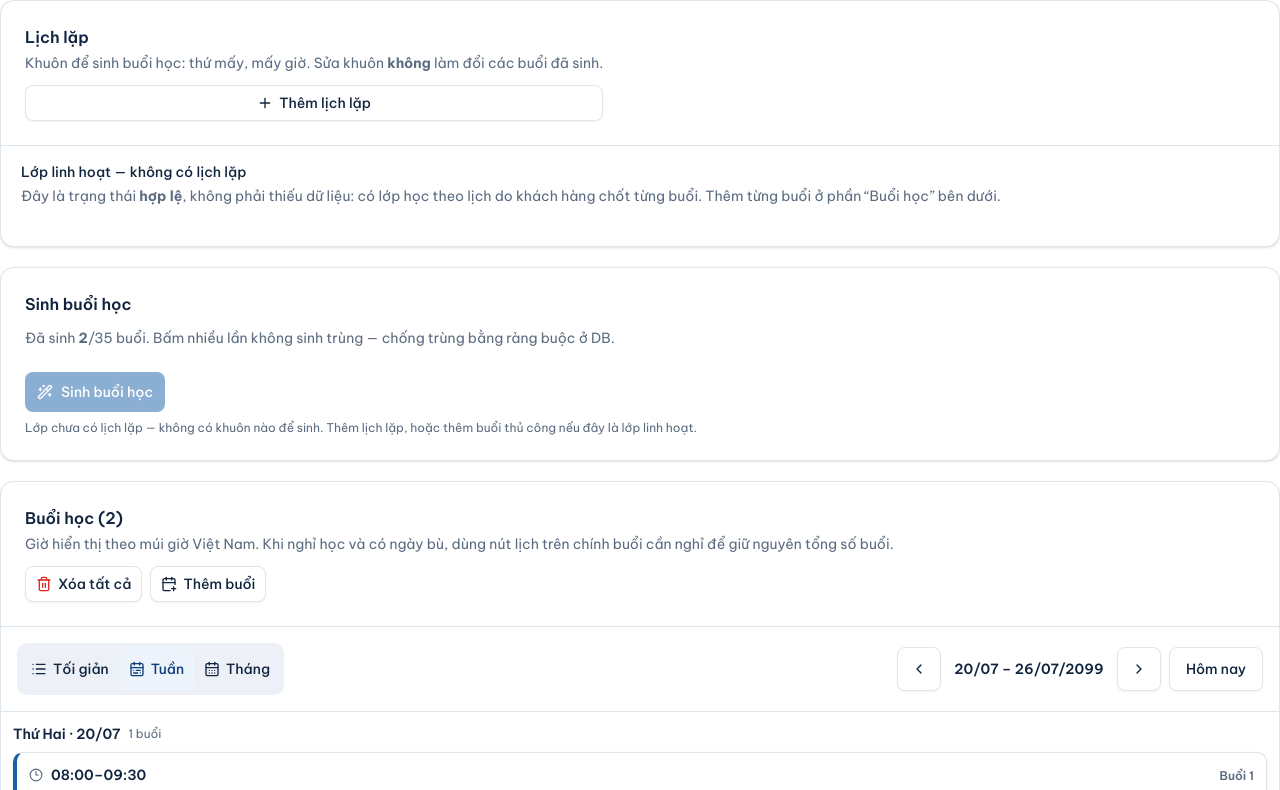
Scenario: ScheduleManager — chuyển kiểu thời khóa biểu › mặc định hiện tuần và chuyển được qua tối giản/tháng
Check: the text "20/07 – 26/07/2099" is shown, box [949, 659, 1109, 679]
Click the button "Tối giản": (70,669) [21, 647, 119, 691]
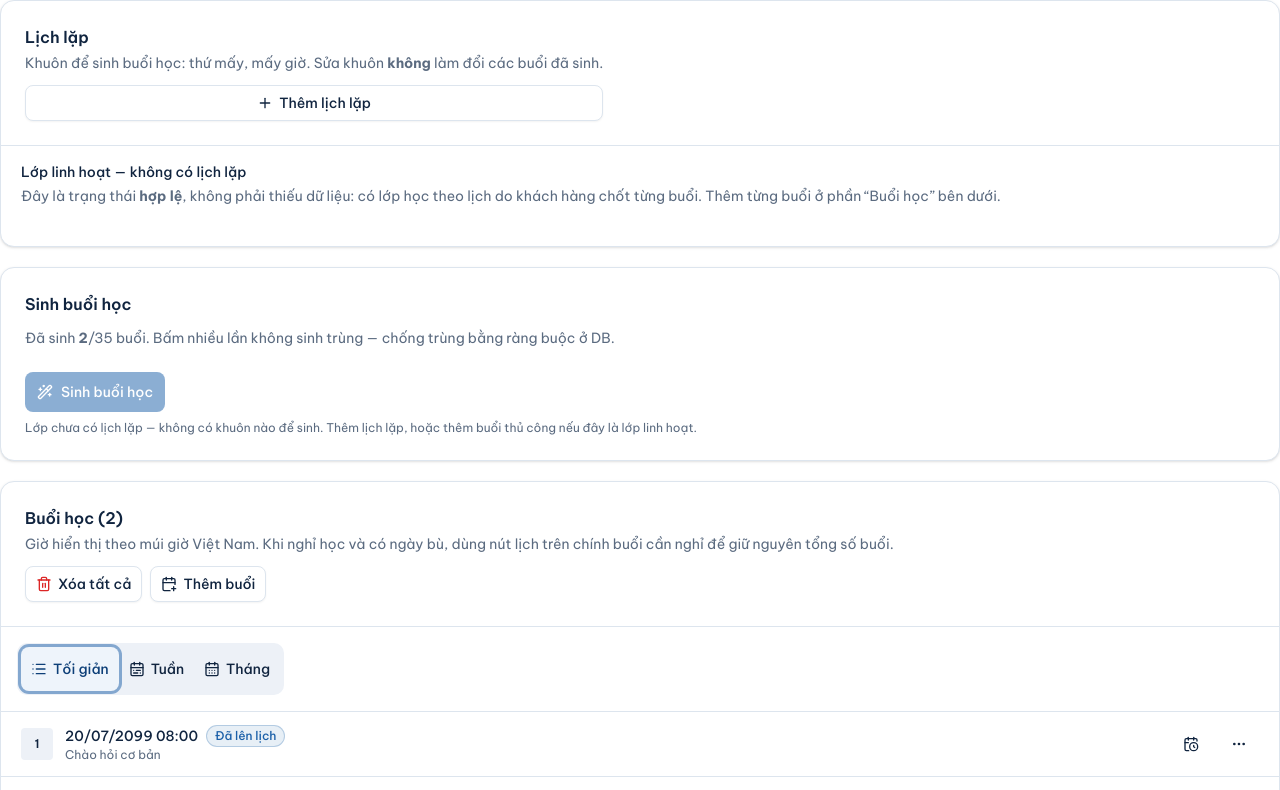
Check: the text "20/07/2099 08:00" is shown, box [65, 726, 198, 746]
Click the button "Tháng": (237,669) [194, 647, 280, 691]
(page scrolled)
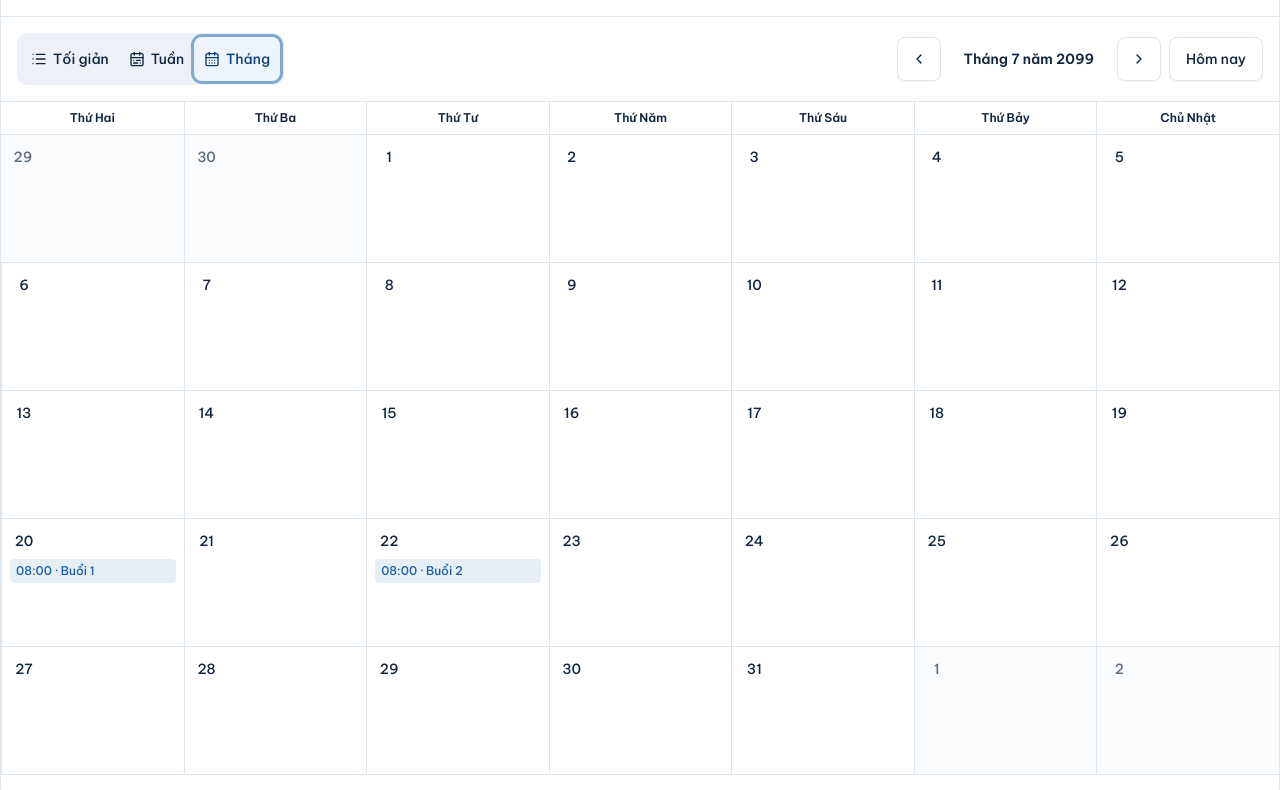
Check: the text "Tháng 7 năm 2099" is shown, box [964, 50, 1094, 68]
Check: the text titled "Buổi 1 · Đã lên lịch" is shown, box [10, 559, 176, 583]
